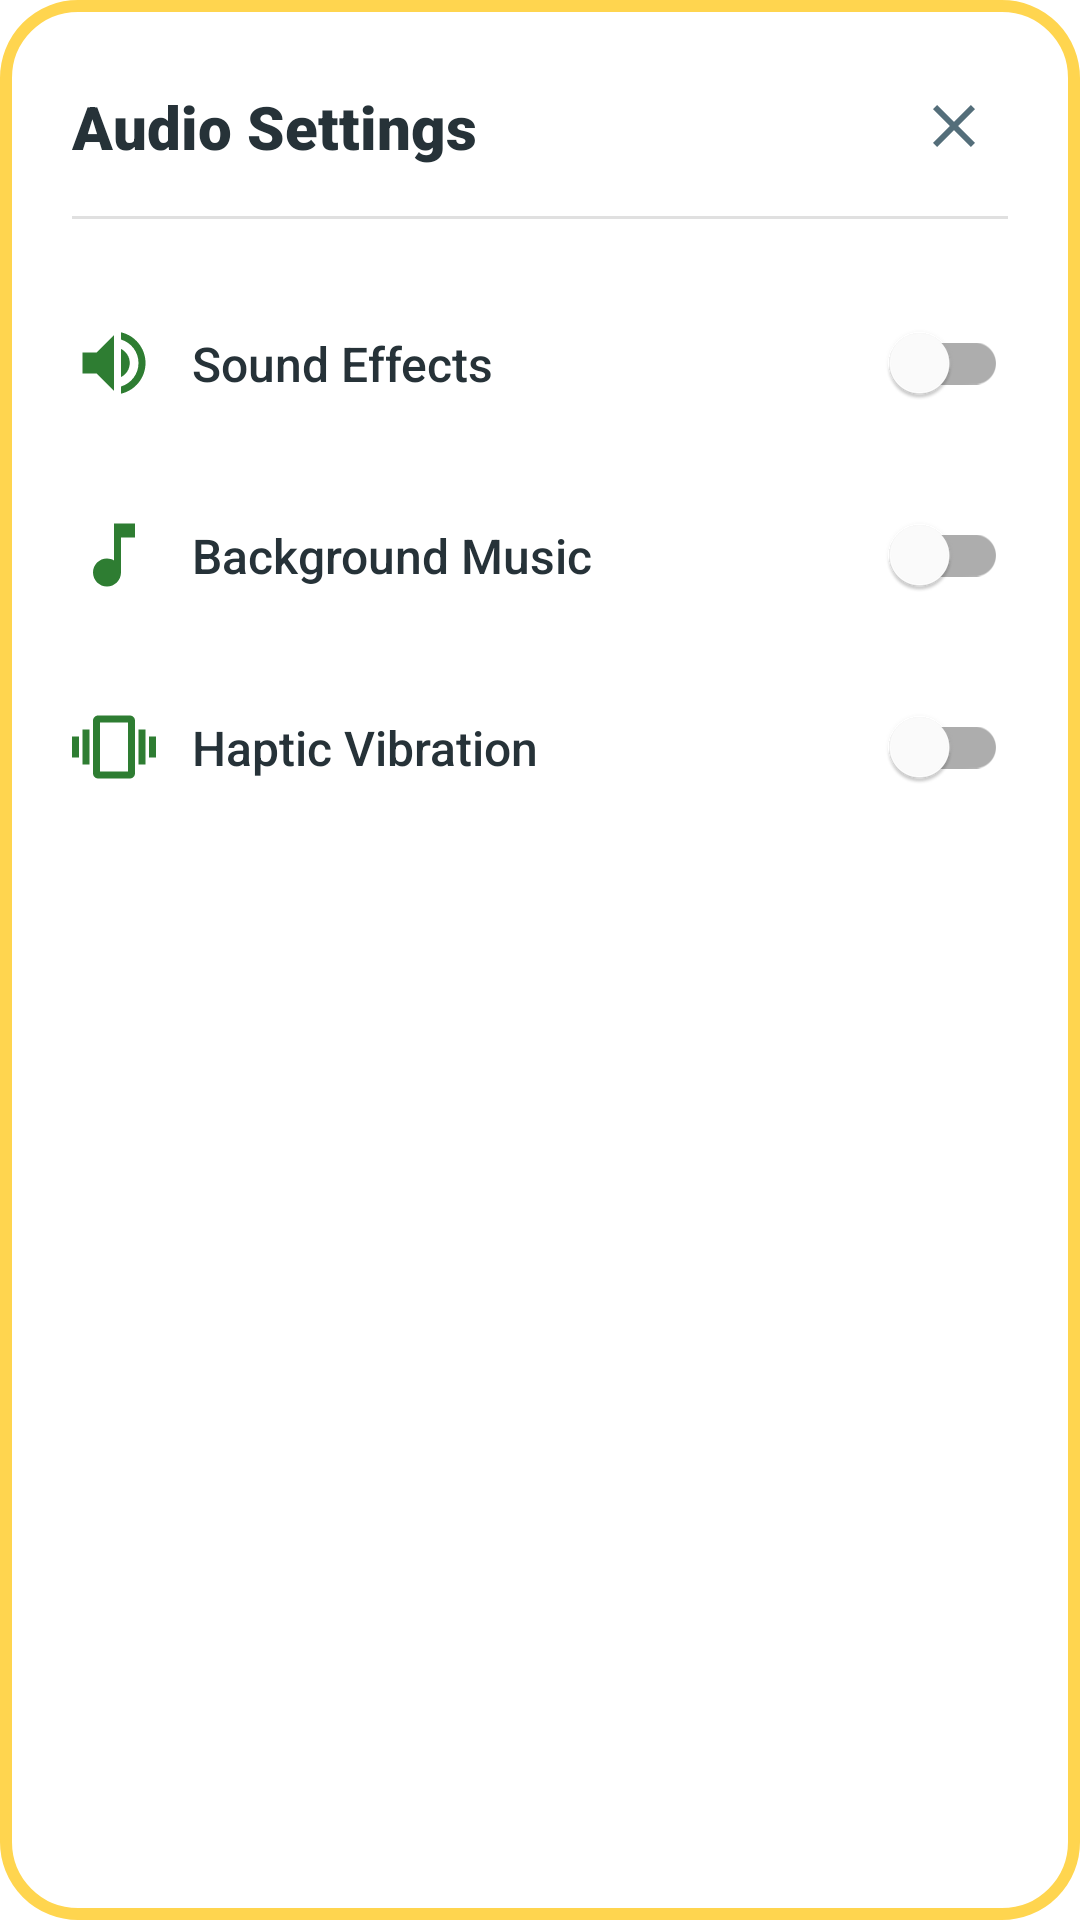

Point at icon controls on the screen. Image size 1080px x 1920px, points as point (x, y).
close: point (954, 126)
music note: point (114, 555)
volume up: point (114, 363)
